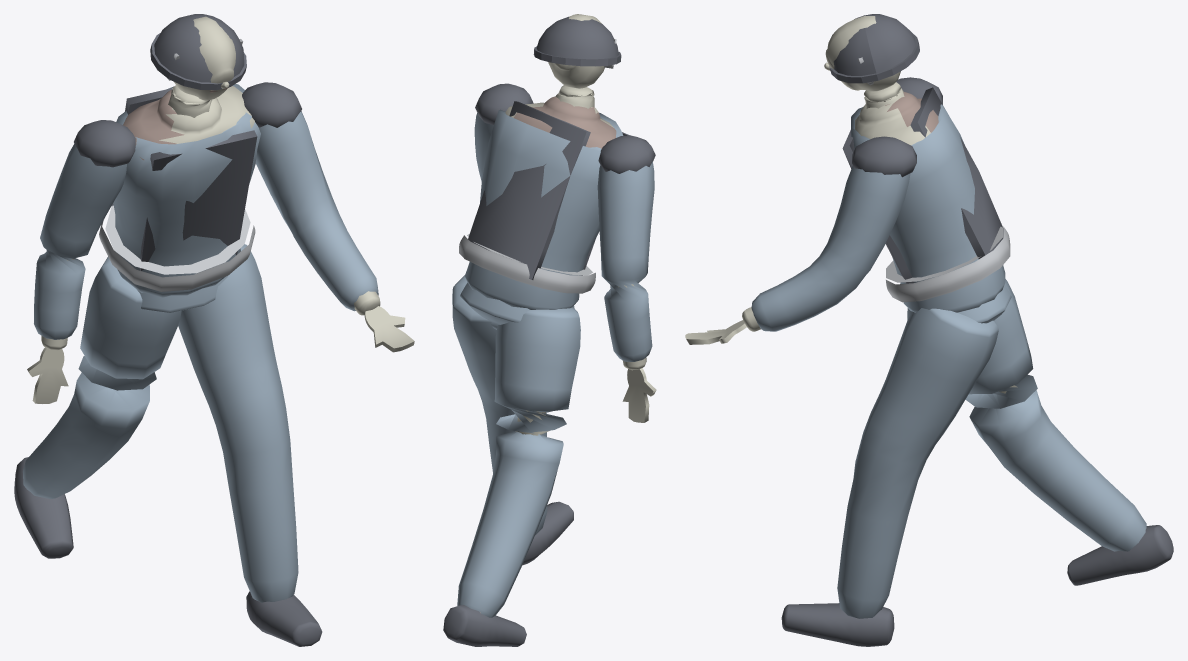
Rendered from undead-horde-and-infected-variants-riot-armoured-infec-bf202073__12004.glb.
3 views of the same model, side by side, from view 1: azimuth 30°, elevation 25°; view 2: azimuth 150°, elevation 25°; view 3: azimuth 270°, elevation 25° (orthographic). The views are drawn at different scales.
Parts seen in each view (by area): view 1: riot-armoured-infected; view 2: riot-armoured-infected; view 3: riot-armoured-infected.
Part boxes in pixels (x1,y1,x2,y2): riot-armoured-infected: [14, 14, 414, 646]; riot-armoured-infected: [443, 14, 656, 646]; riot-armoured-infected: [685, 14, 1173, 646].
Size of the model in its own units: 0.743 by 1.72 by 1.28.
